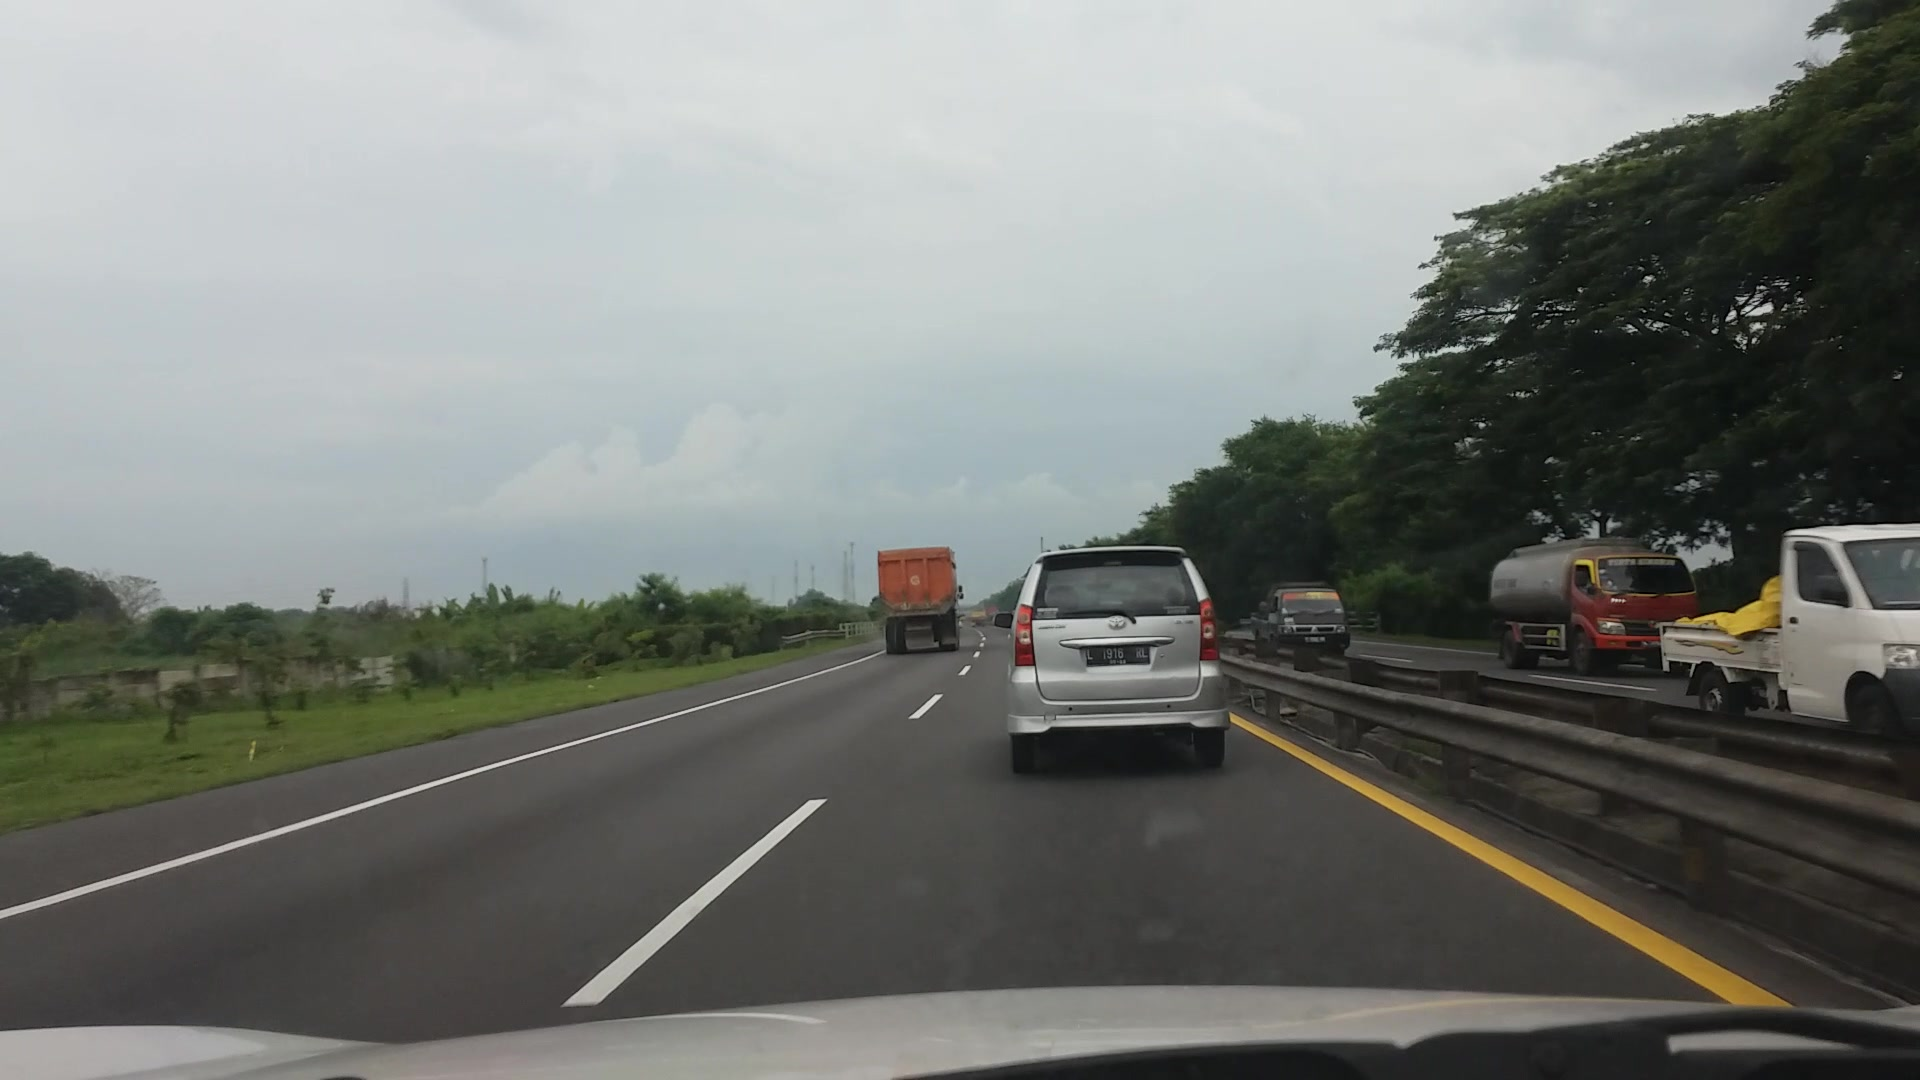plate_positive: (1087, 644, 1150, 665)
